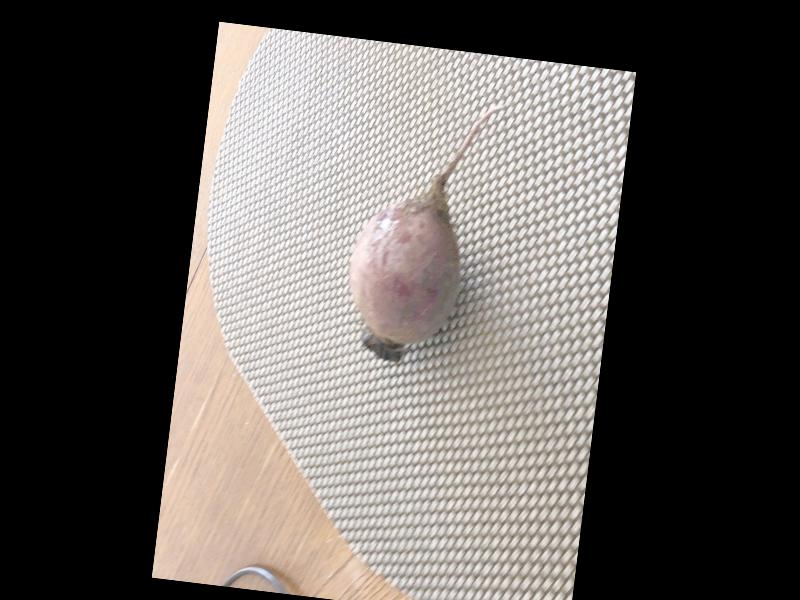Beet: (339, 89, 504, 372)
